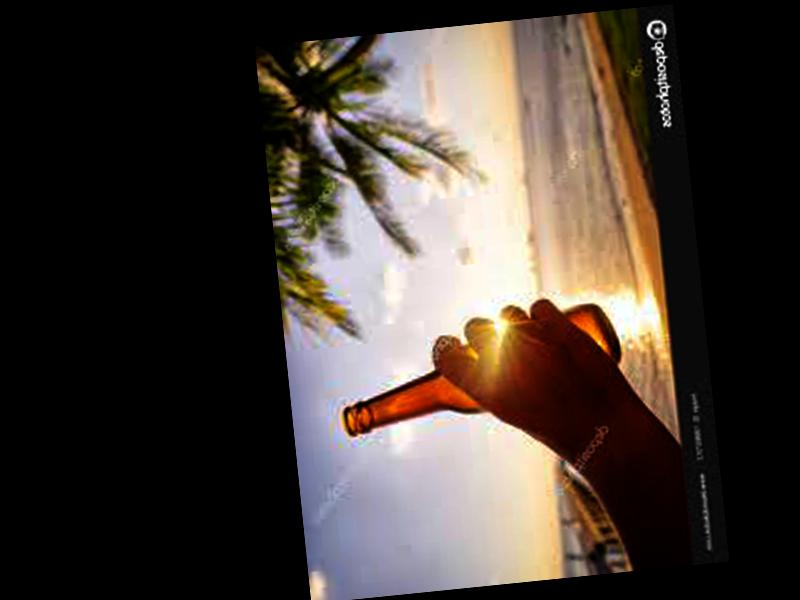Beer: (334, 301, 626, 438)
